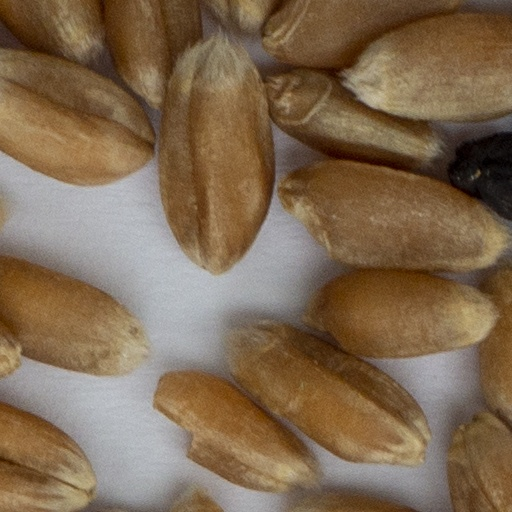Agrostemma-poly: (448, 132, 511, 219)
